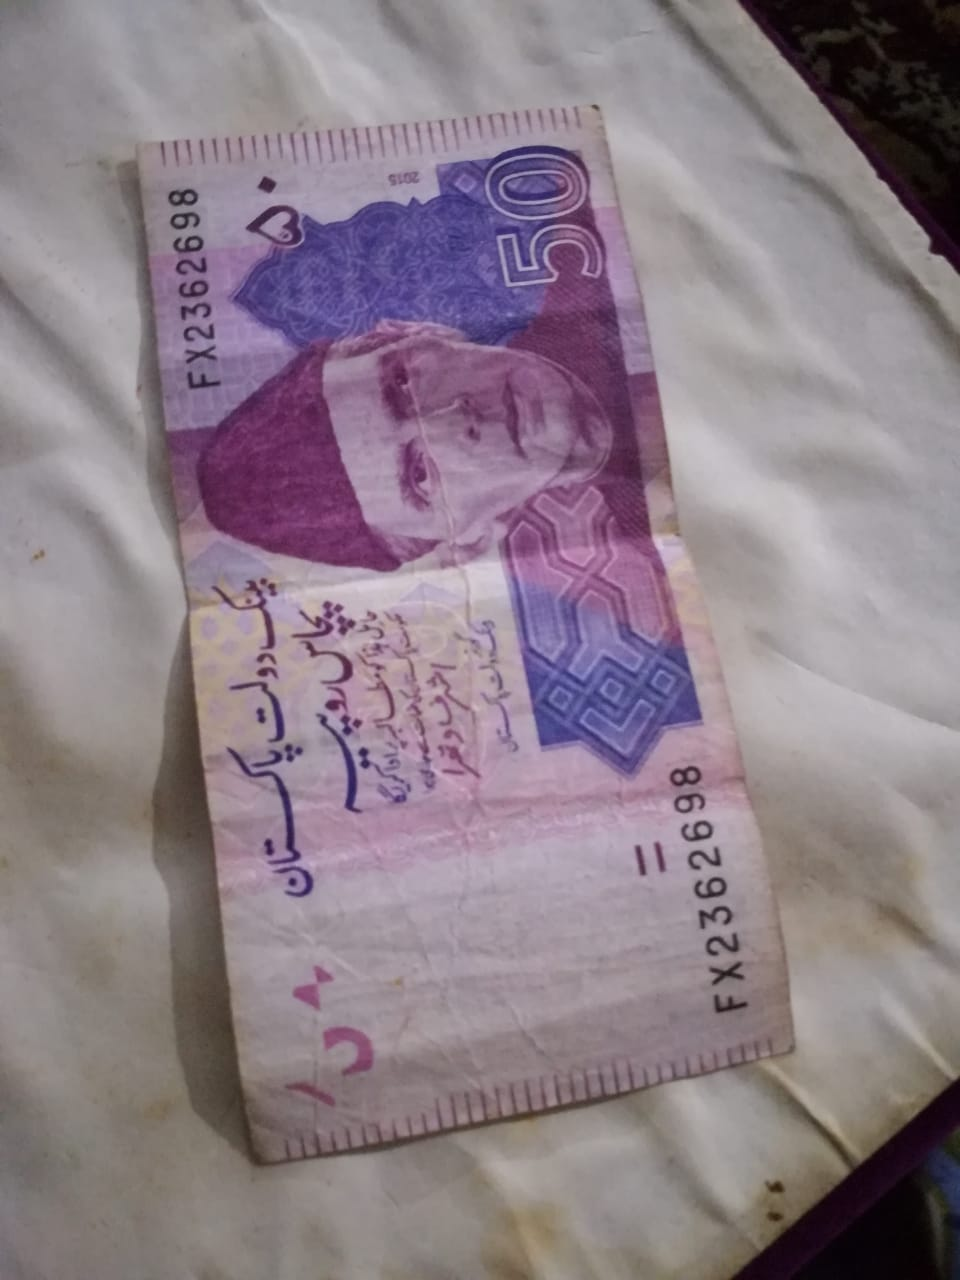50 rupee: (134, 76, 818, 1226)
